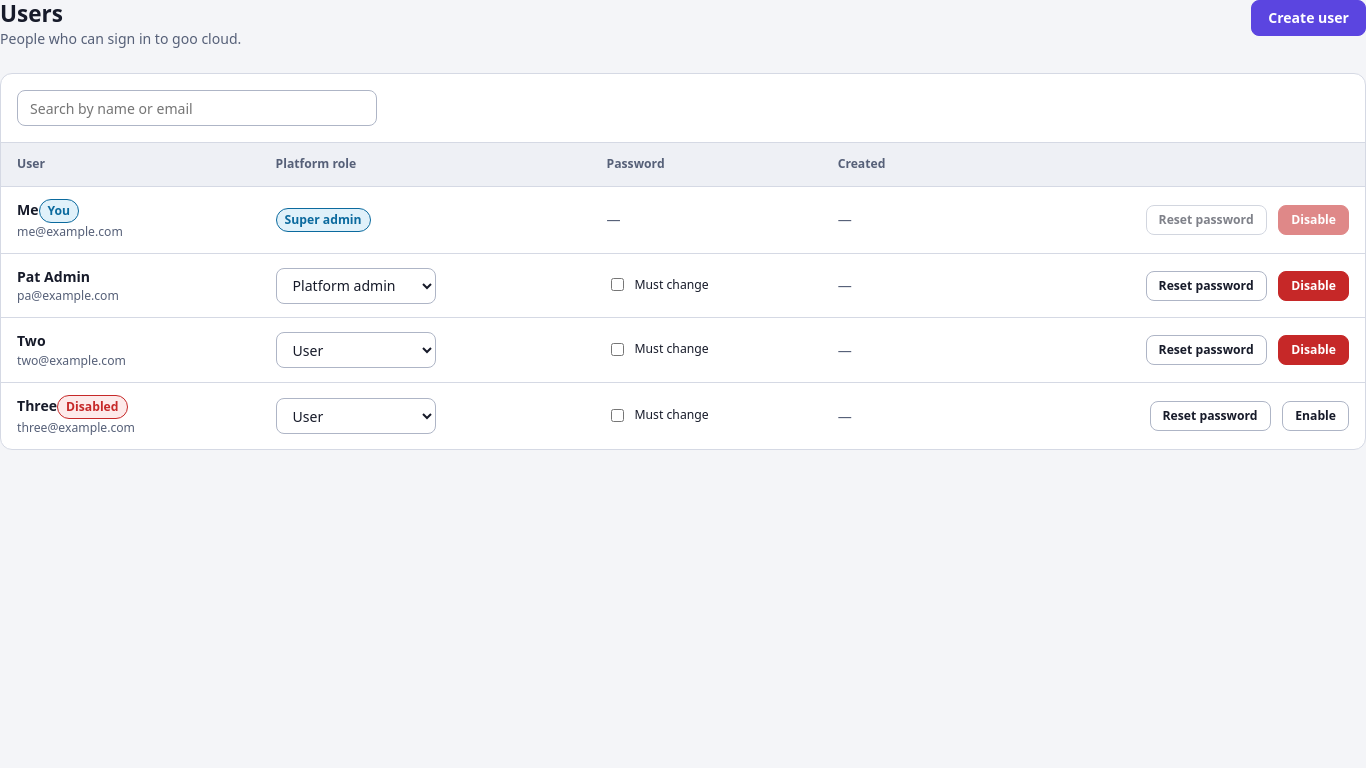
Test: UsersPage role-based UI › disable / enable › enable confirms and PATCHes {disabled:false}
Step 1. Click the button with aria-label "Enable three@example.com" → (1316, 416), box 1282,401 -> 1349,431
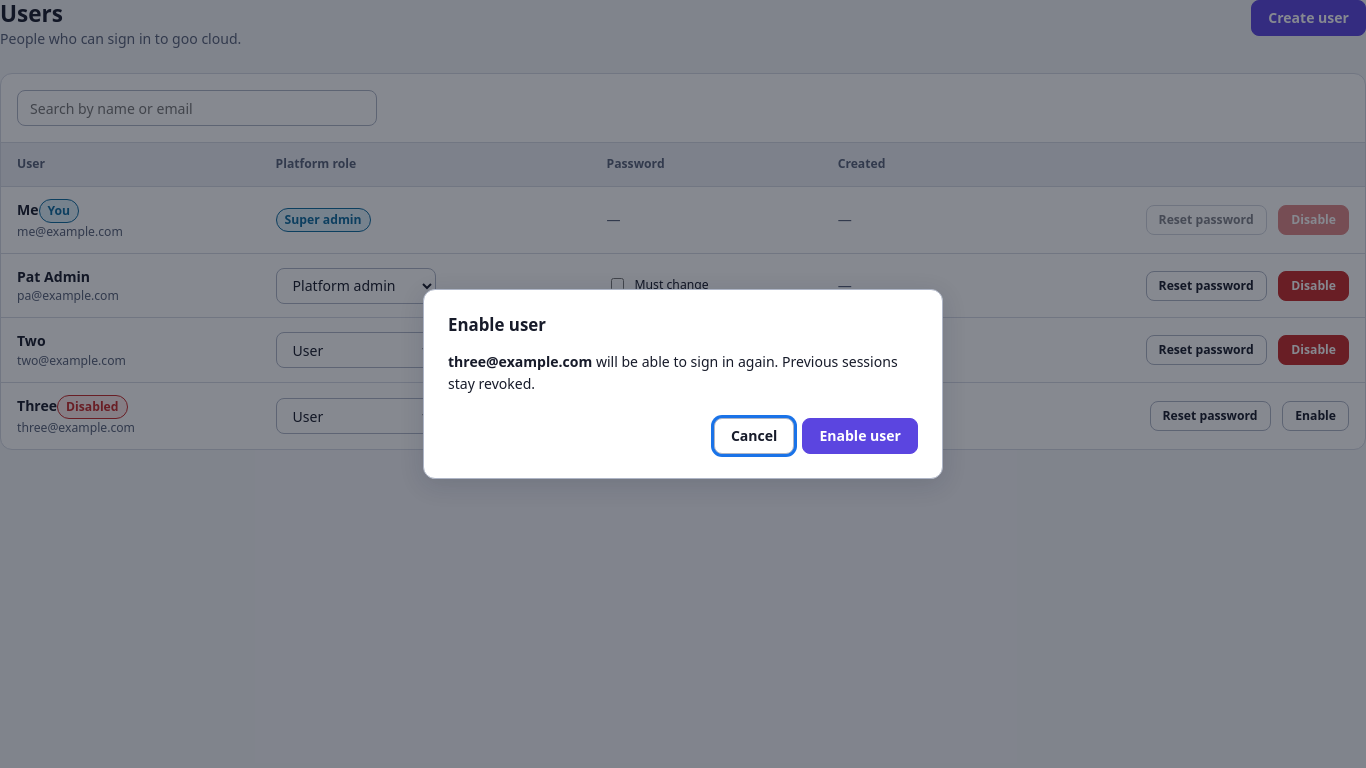
Step 2. Click the button "Enable user" → (860, 436), box 802,418 -> 918,454
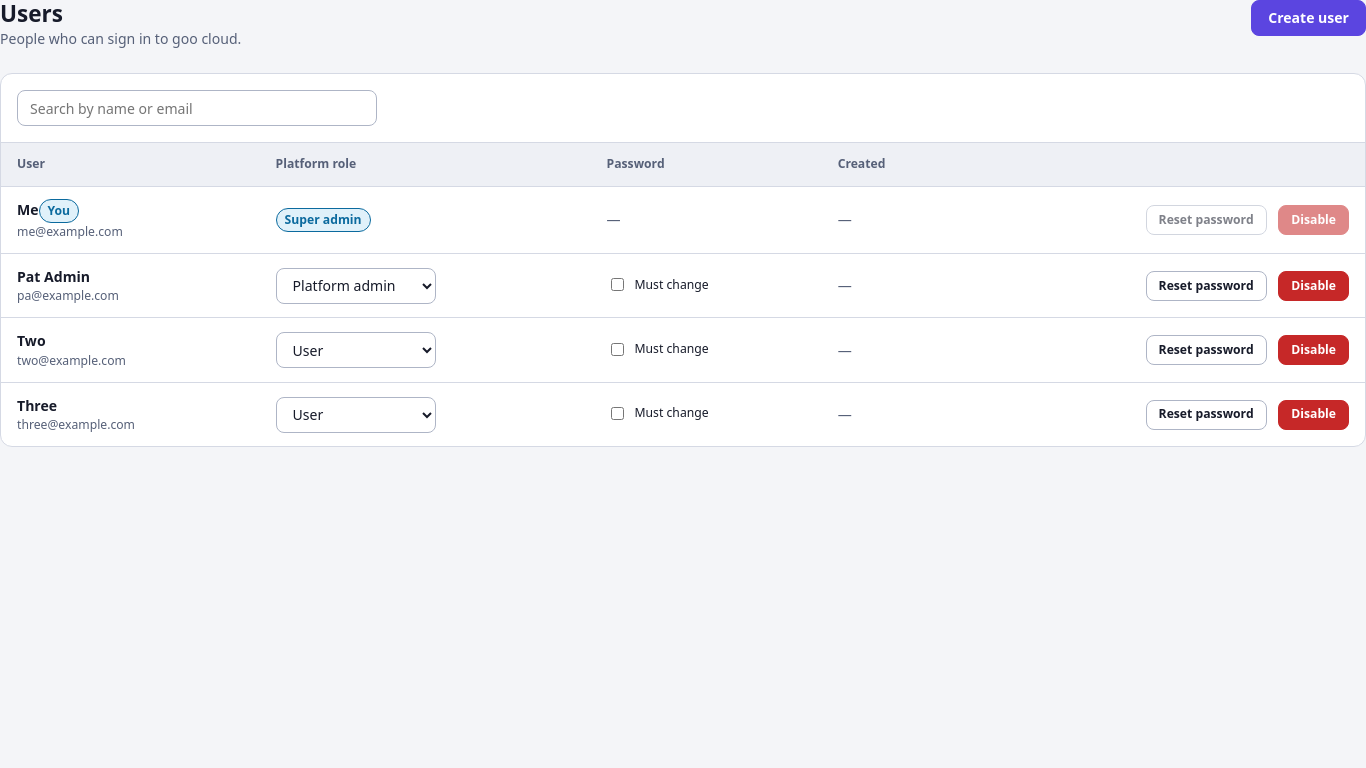
Result: the text "Disabled" is gone
